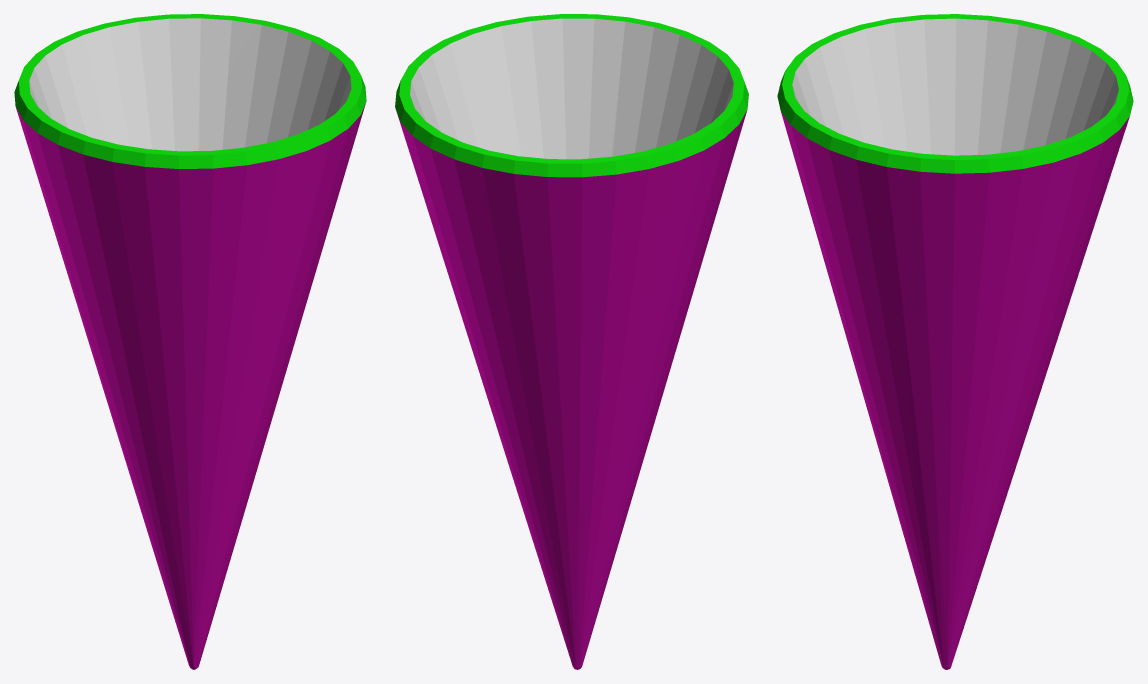
The model's file is Waffelhornchen_Neu.fbx.
3 renders of one model, left to right at view 1: azimuth 30°, elevation 25°; view 2: azimuth 150°, elevation 25°; view 3: azimuth 270°, elevation 25°, orthographic.
Visible parts, largest first — view 1: Cone; view 2: Cone; view 3: Cone.
Part boxes in pixels (x1=…): Cone: x1=14, y1=14, x2=366, y2=669; Cone: x1=395, y1=14, x2=748, y2=669; Cone: x1=777, y1=14, x2=1133, y2=669.
Bounding box in the file's own units: 156 × 285 × 157.
